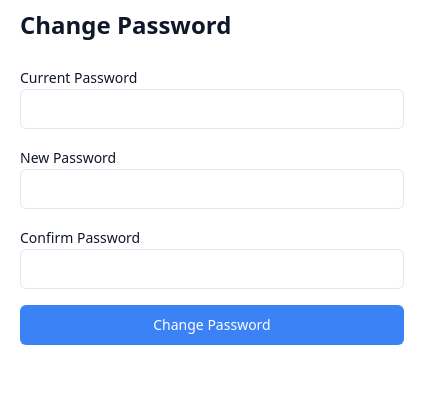
Test case: AccountPage › shows generic message on non-ApiError
Type "oldpass" into the password field labelled "Current Password" at [212, 109], box left=20, top=89, right=404, bottom=129
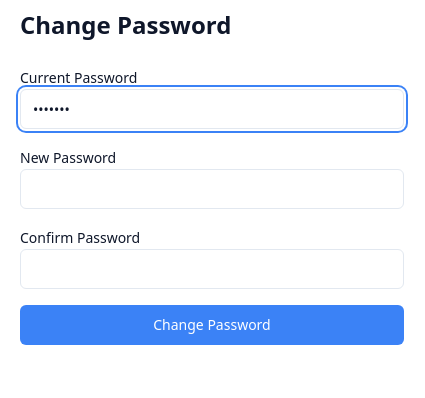
Type "newpass" into the password field labelled "New Password" at [212, 189], box left=20, top=169, right=404, bottom=209
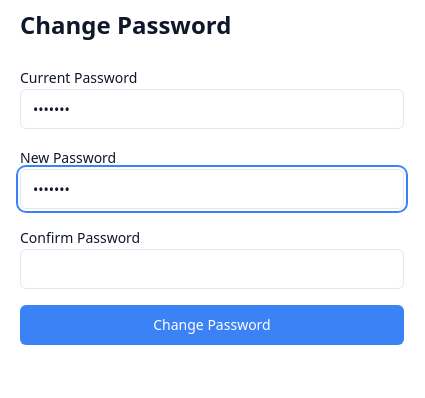
Type "newpass" into the password field labelled "Confirm Password" at [212, 269], box left=20, top=249, right=404, bottom=289
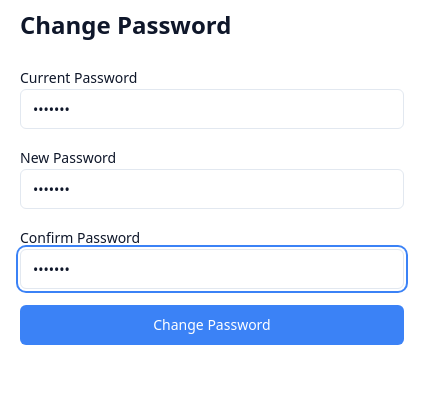
Click the button "Change Password" at [212, 325], box left=20, top=305, right=404, bottom=345
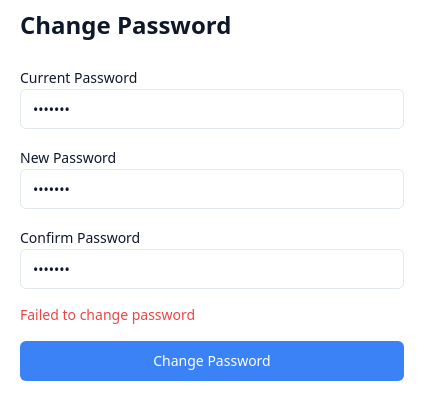
Now the text "Failed to change password" is shown, box left=20, top=305, right=195, bottom=324
